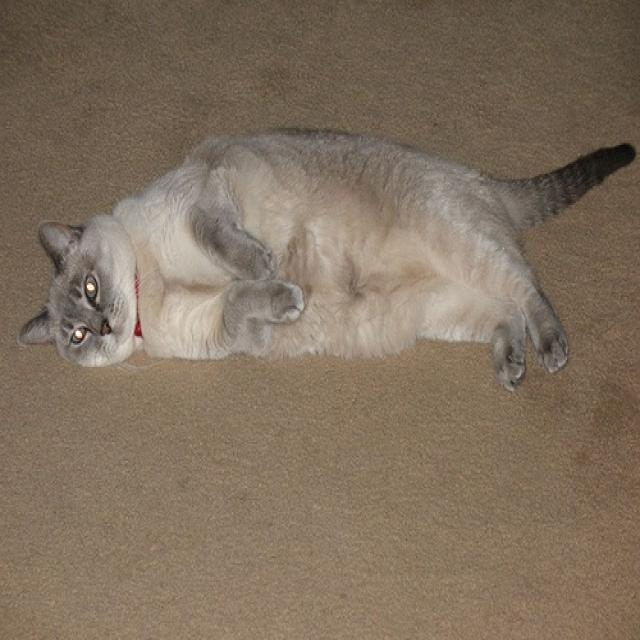cat: (18, 106, 637, 394)
